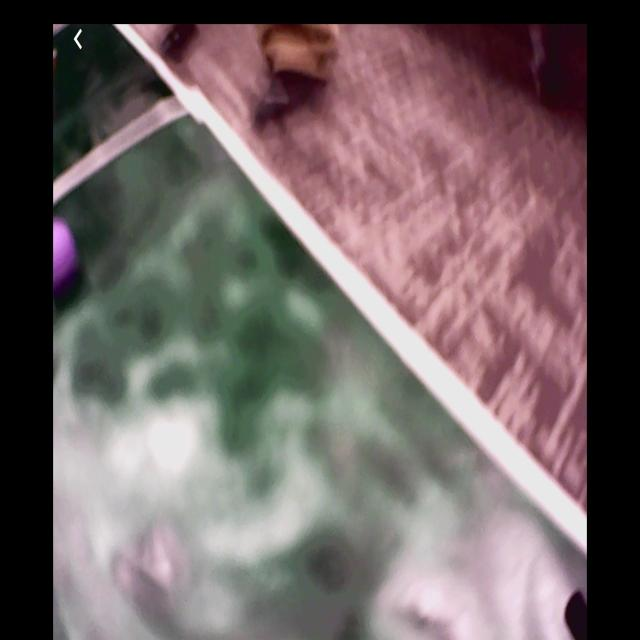ball: (55, 220, 78, 295)
